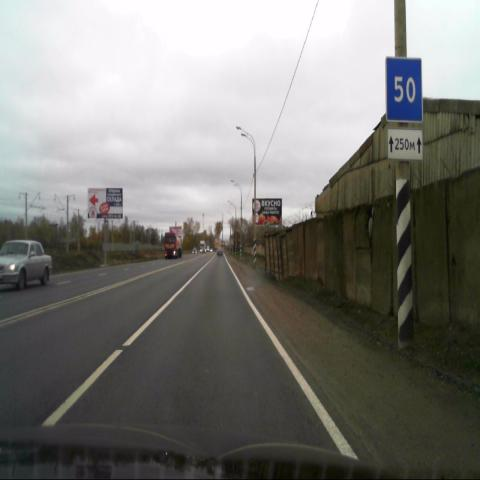6_2: (385, 57, 422, 125)
